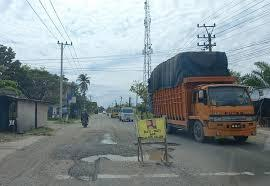Pothole: (42, 170, 181, 182), (77, 150, 177, 166), (198, 167, 270, 181), (136, 138, 190, 155), (97, 122, 121, 149)
